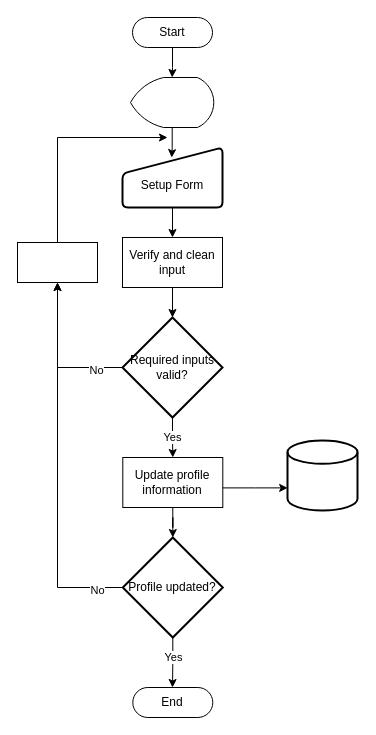
This 376x735 diagram has some shape labels left out. The centre of each missing label's shape, as x and y in pixels:
"Account Setup" goes at [172,102].
"public.user" goes at [322,475].
"Show error" goes at [57,262].
